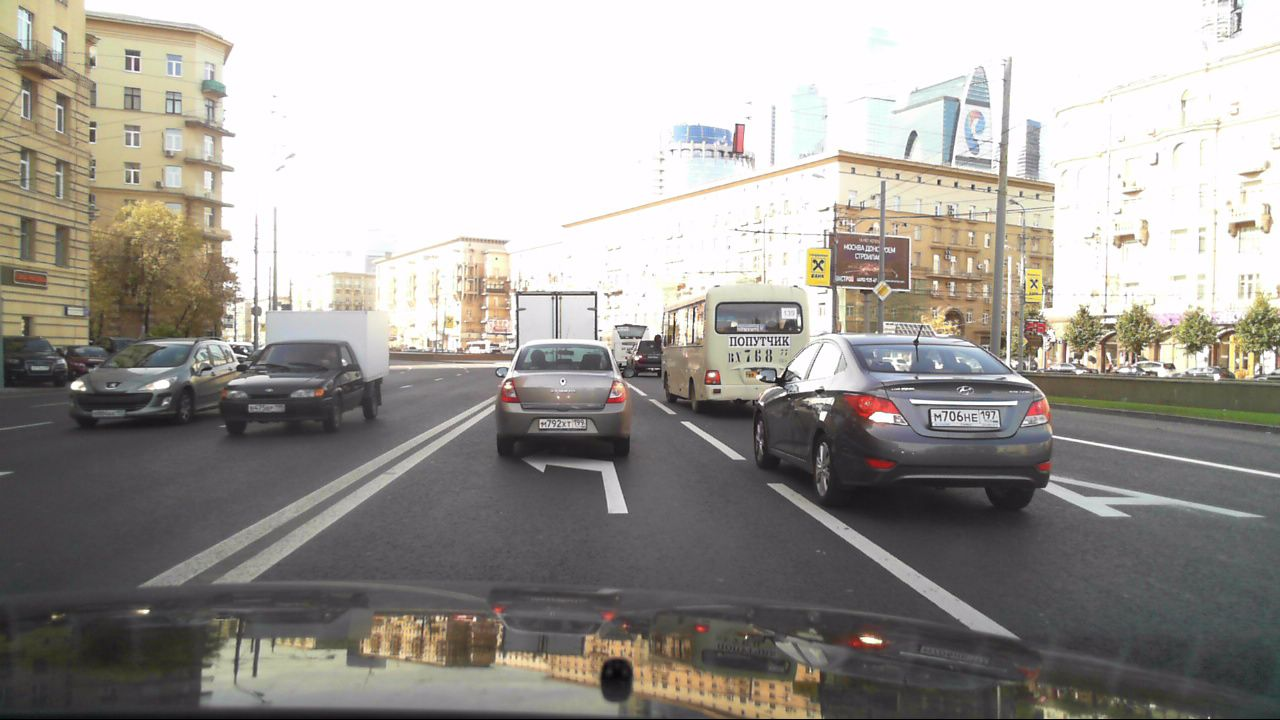main road: (874, 277, 895, 300)
